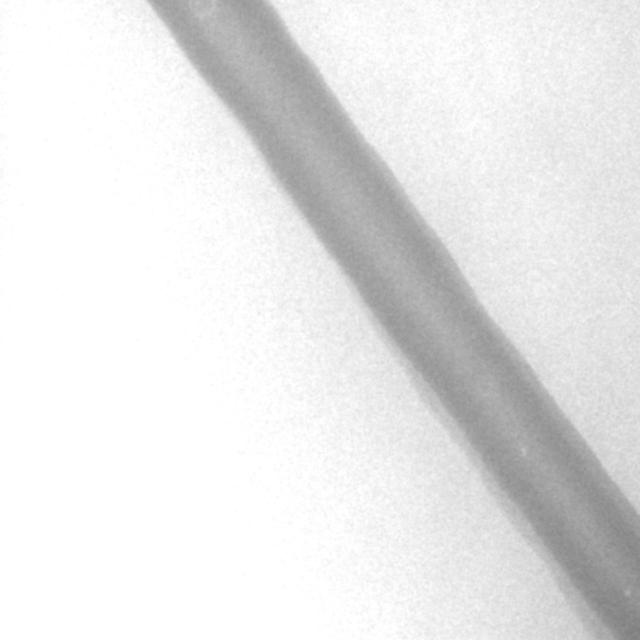air-hole: (520, 444, 528, 464), (624, 586, 631, 600)
